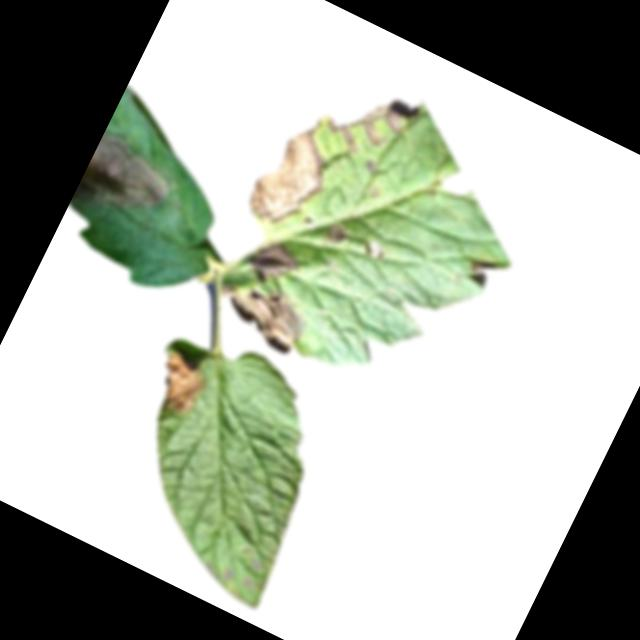Late_blight: (240, 115, 344, 239), (73, 132, 182, 236), (208, 272, 312, 359), (317, 83, 407, 167), (147, 349, 213, 420), (241, 230, 306, 294), (321, 218, 352, 250), (469, 252, 497, 281)
